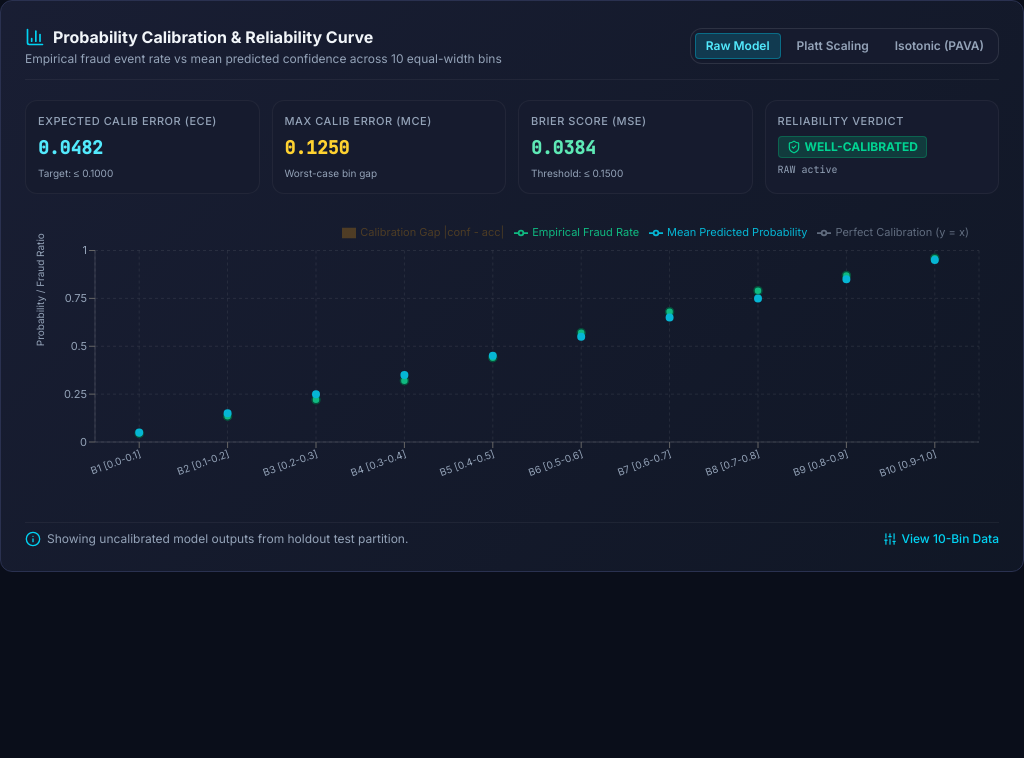
Test: CalibrationReliabilityPlot Component Test Suite › toggles the 10-bin breakdown table
Check: the text "Pred Conf" is not shown
Note: Click to show table
Click the button "View 10-Bin Data".
click(941, 538)  # box [883,530,999,546]
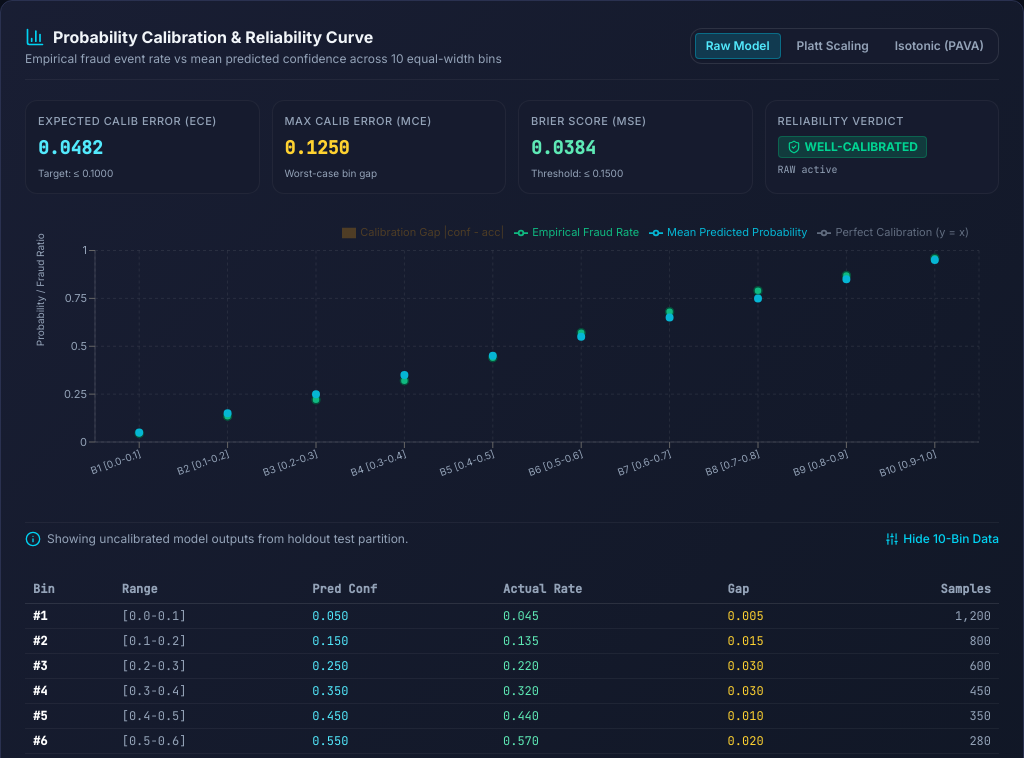
Check: the column heading "Pred Conf" is shown, box [304,574,495,603]
Check: the column heading "Actual Rate" is shown, box [495,574,720,603]
Check: the text "#1" is shown, box [25,603,114,628]
Note: Click to hide
Click the button "Hide 10-Bin Data".
click(942, 538)  # box [885,530,999,546]
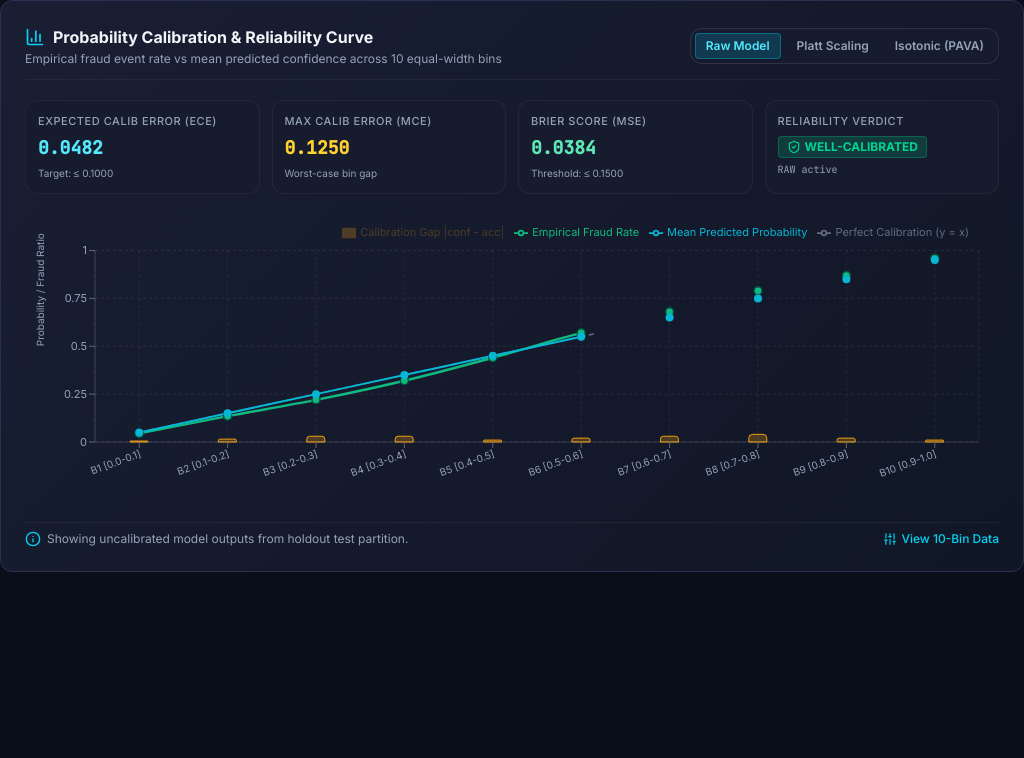
Check: the column heading "Pred Conf" is gone
